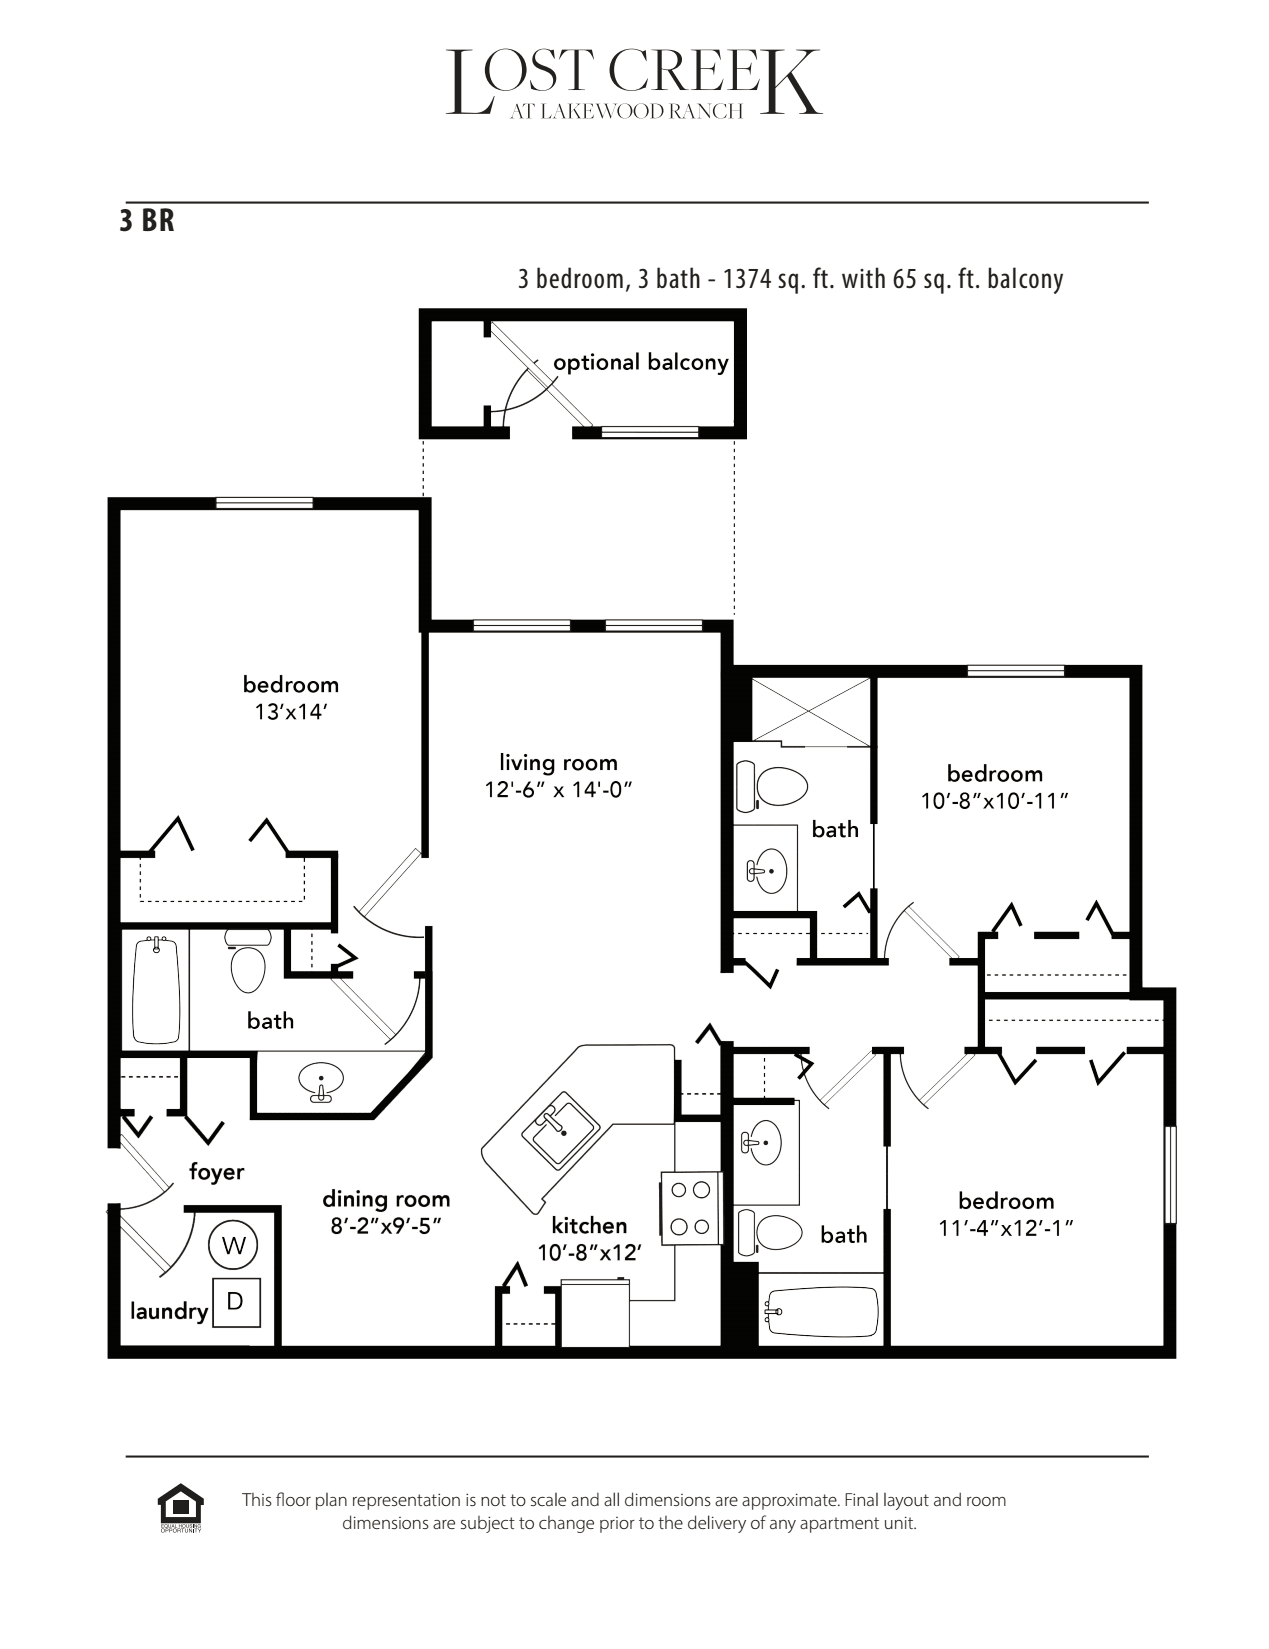door: (359, 850, 420, 940), (347, 984, 423, 1038), (880, 905, 962, 954), (120, 1218, 197, 1270), (894, 1056, 966, 1106), (124, 1150, 171, 1210), (802, 1068, 865, 1102), (243, 807, 285, 852), (151, 811, 199, 850), (189, 1109, 228, 1153), (994, 894, 1030, 926), (686, 1012, 721, 1044), (1085, 1056, 1120, 1086), (752, 961, 788, 989), (501, 1254, 532, 1286), (1000, 1058, 1034, 1086), (127, 1112, 157, 1138), (1082, 900, 1110, 928), (838, 886, 866, 913)
